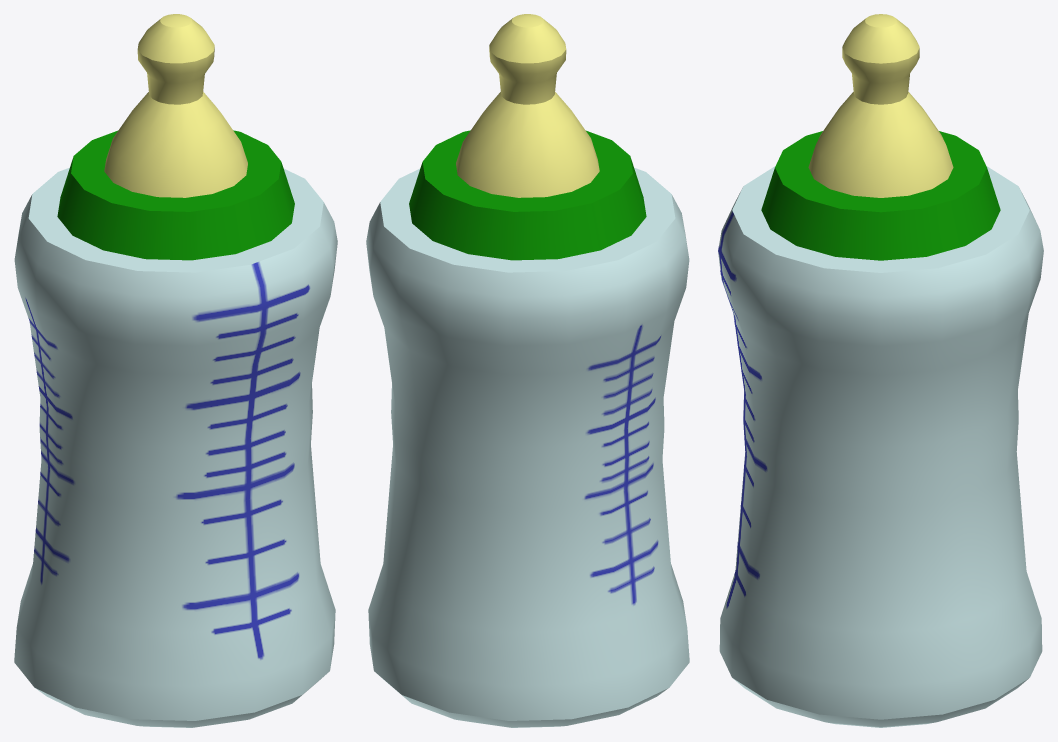
File: feeder.fbx
3 renders of one model, left to right at view 1: azimuth 30°, elevation 25°; view 2: azimuth 150°, elevation 25°; view 3: azimuth 270°, elevation 25°, orthographic.
Parts seen in each view (by area): view 1: feeder; view 2: feeder; view 3: feeder.
Part boxes in pixels (left/top/right/bottom): feeder: left=14, top=14, right=337, bottom=727; feeder: left=366, top=14, right=689, bottom=727; feeder: left=718, top=14, right=1043, bottom=727.
Bounding box in the file's own units: 31.09 × 69.35 × 31.02.
